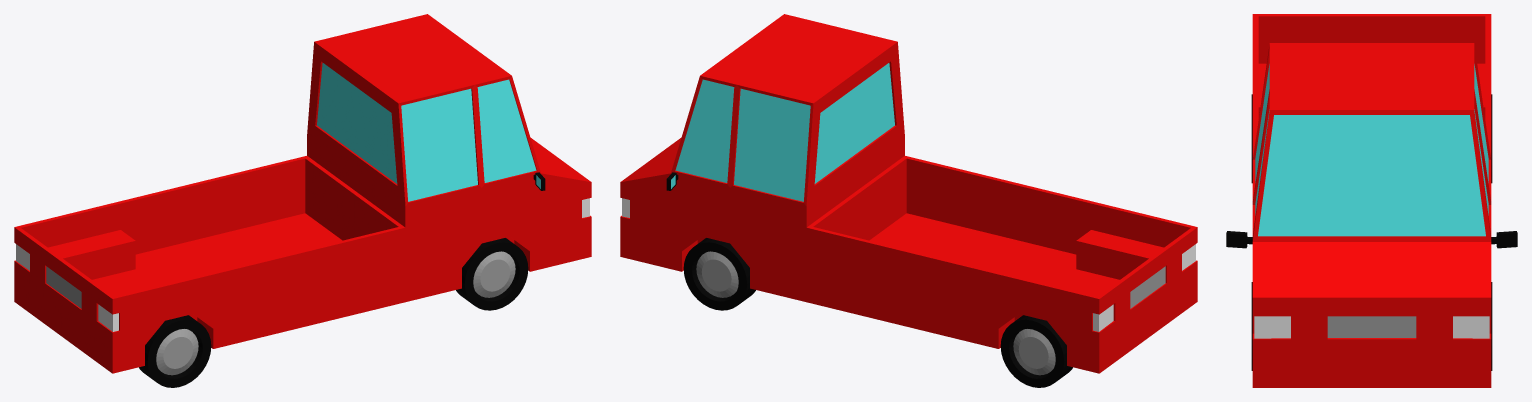
Rendered from Car5.fbx.
3 views of the same model, side by side, from view 1: azimuth 30°, elevation 25°; view 2: azimuth 150°, elevation 25°; view 3: azimuth 270°, elevation 25° (orthographic). The views are drawn at different scales.
Visible parts, largest first — view 1: Car5; view 2: Car5; view 3: Car5.
Part boxes in pixels (x1,y1,x2,y2): Car5: (14, 14, 591, 387); Car5: (620, 14, 1197, 387); Car5: (1226, 14, 1517, 387).
Size of the model in its own units: 563 by 250 by 244.
